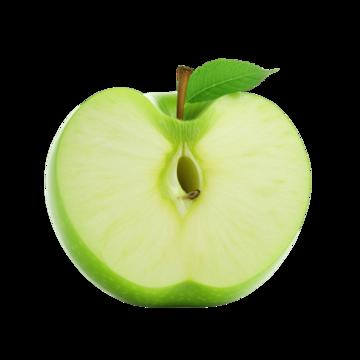apples: (30, 47, 328, 324)
